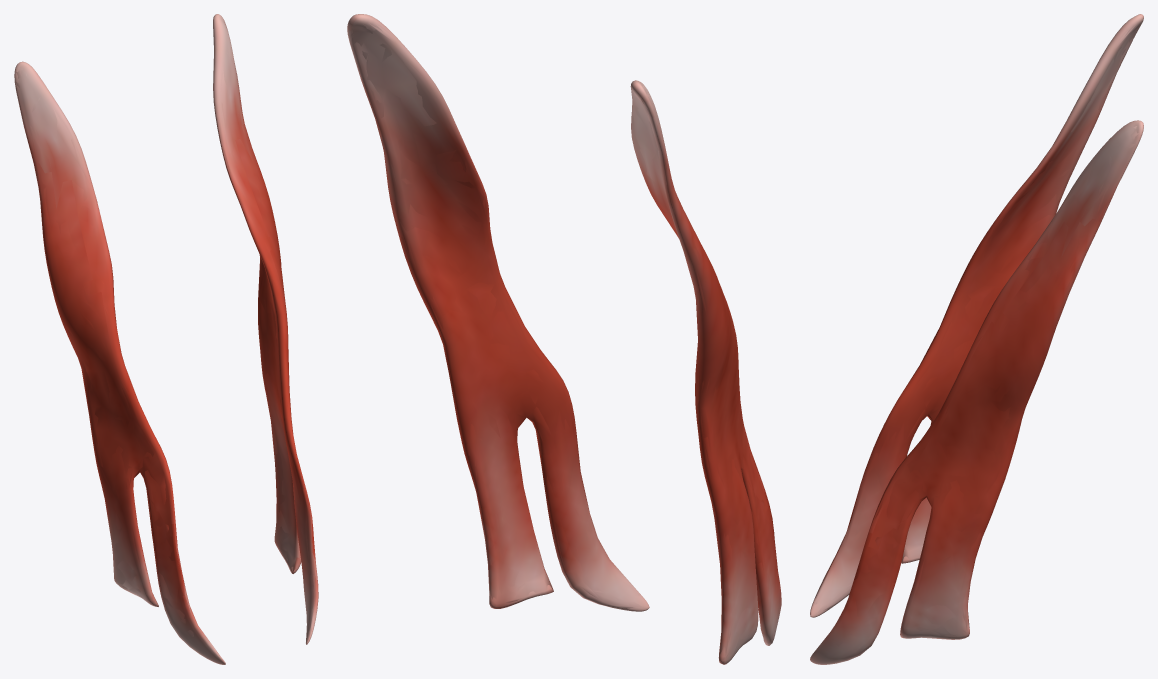
File: Levator labii superioris alaeque nasi.fbx
3 views of the same model, side by side, from view 1: azimuth 30°, elevation 25°; view 2: azimuth 150°, elevation 25°; view 3: azimuth 270°, elevation 25° (orthographic). The views are drawn at different scales.
Visible parts, largest first — view 1: Levator labii superioris alaeque nasi, Levator labii superioris alaeque nasi low; view 2: Levator labii superioris alaeque nasi, Levator labii superioris alaeque nasi low; view 3: Levator labii superioris alaeque nasi, Levator labii superioris alaeque nasi low.
Boxes of the visible parts, box(x1,y1,x2,y2) form: Levator labii superioris alaeque nasi: box(14, 14, 318, 664); Levator labii superioris alaeque nasi low: box(14, 18, 318, 654); Levator labii superioris alaeque nasi: box(347, 14, 781, 664); Levator labii superioris alaeque nasi low: box(350, 23, 779, 662); Levator labii superioris alaeque nasi: box(810, 14, 1143, 664); Levator labii superioris alaeque nasi low: box(812, 20, 1142, 660).
Bounding box in the file's own units: 15.26 × 33.37 × 17.63.
Materials: 1 (1 with a texture image).
